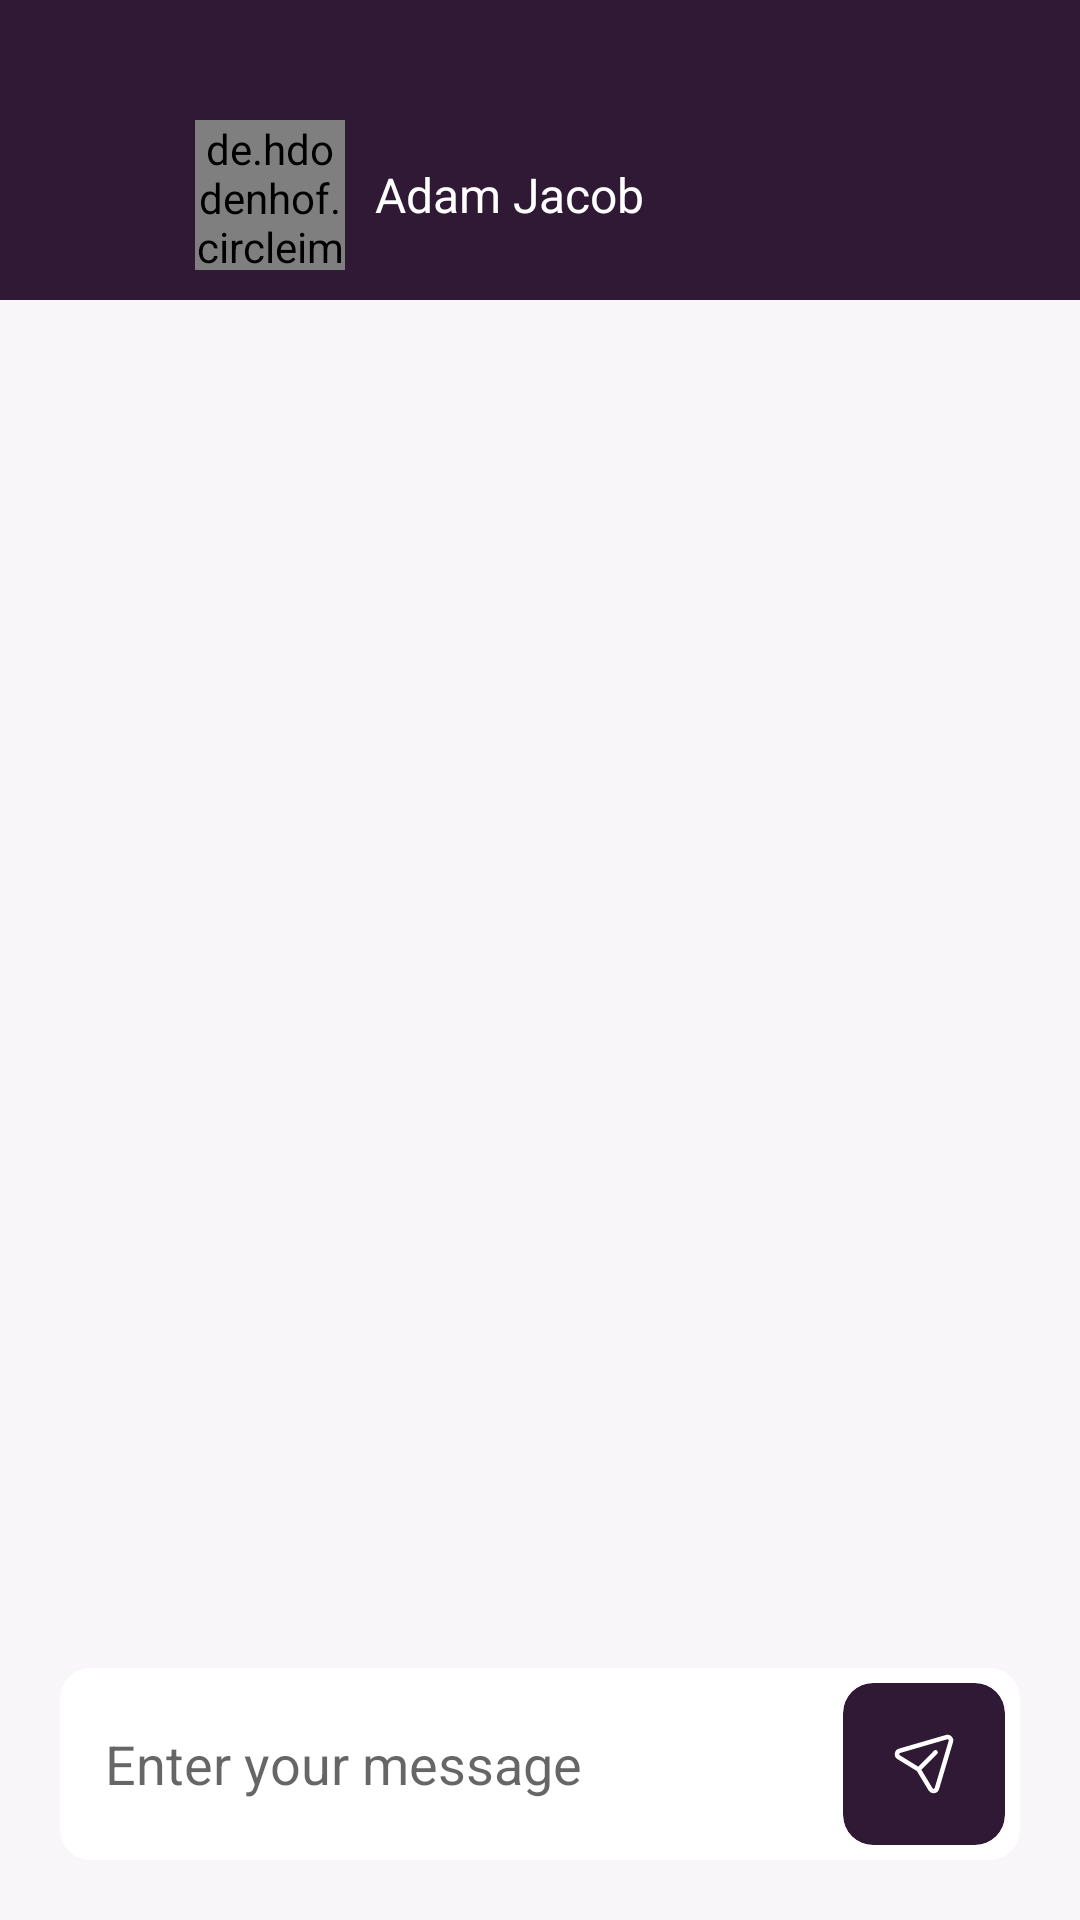

Named icons in this screenshot (1080px x 1920px) and their bounding boxes, {"left": x1, "top": y1, "right": x2, "bottom": y2}:
send: {"left": 894, "top": 1734, "right": 954, "bottom": 1794}
